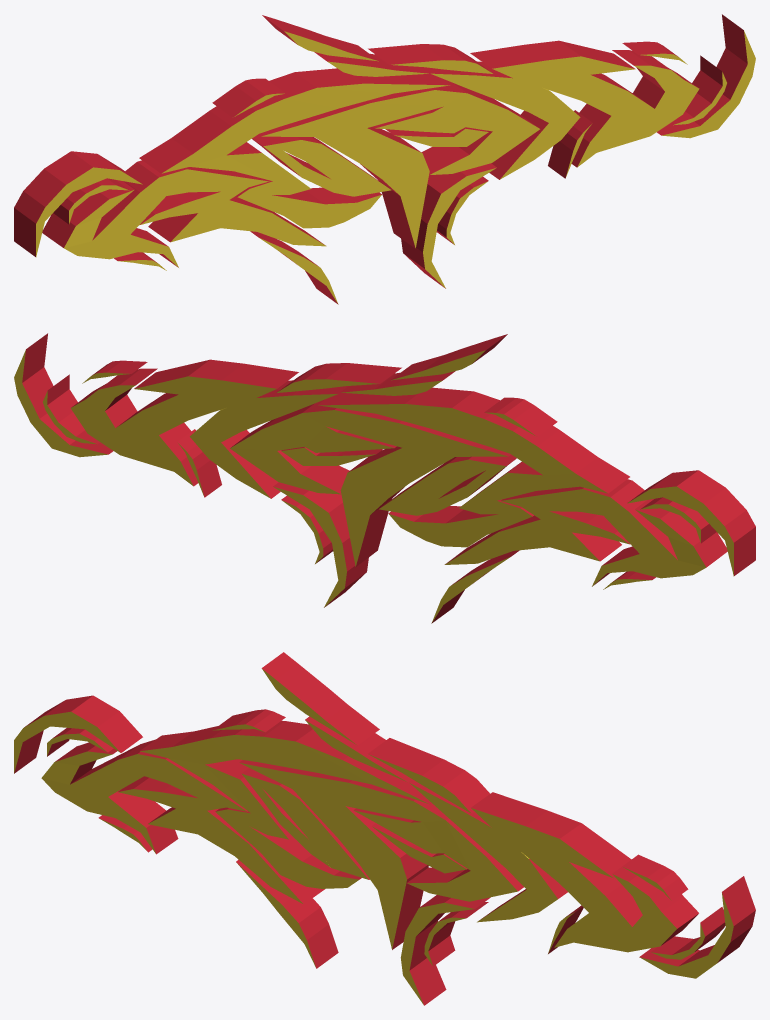
File: drop6.gltf
The picture shows the model from 3 angles, top to bottom: view 1: azimuth 30°, elevation 25°; view 2: azimuth 150°, elevation 25°; view 3: azimuth 330°, elevation 25°; orthographic projection.
Parts seen in each view (by area): view 1: Cube; view 2: Cube; view 3: Cube.
Part boxes in pixels (left/top/right/bottom): Cube: left=14, top=14, right=755, bottom=304; Cube: left=14, top=333, right=755, bottom=623; Cube: left=14, top=652, right=755, bottom=1005.
Bounding box in the file's own units: 55.2 × 21.84 × 3.11.
